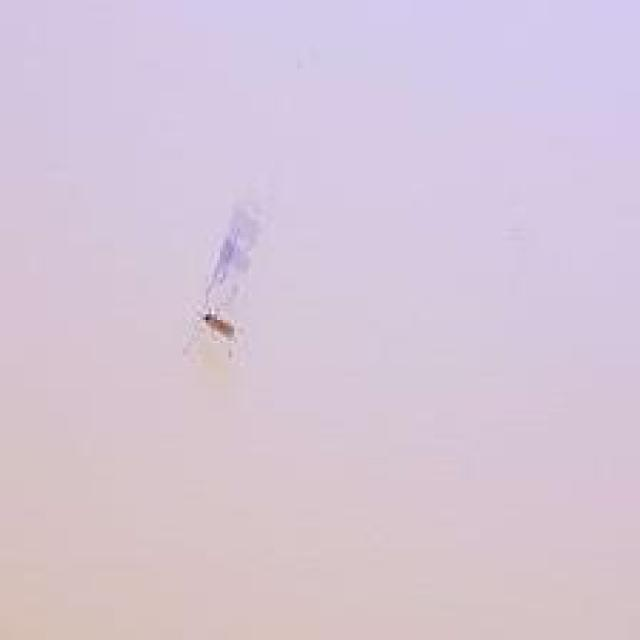Culex: (201, 308, 236, 343)
